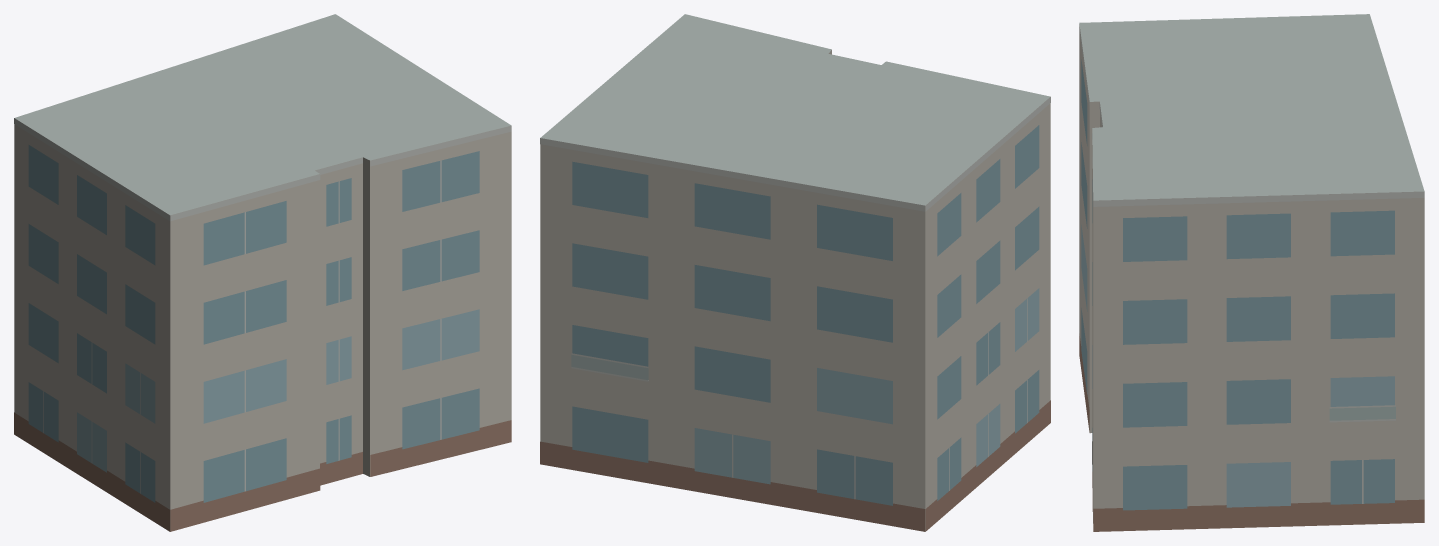
The model's file is survey-upis-32737448.glb.
The picture shows the model from 3 angles, left to right: view 1: azimuth 30°, elevation 25°; view 2: azimuth 150°, elevation 25°; view 3: azimuth 270°, elevation 25°; orthographic projection. The views are drawn at different scales.
Parts seen in each view (by area): view 1: survey-upis-32737448.tmp; view 2: survey-upis-32737448.tmp; view 3: survey-upis-32737448.tmp.
Part boxes in pixels (x1=…): survey-upis-32737448.tmp: x1=14, y1=14, x2=511, y2=531; survey-upis-32737448.tmp: x1=540, y1=14, x2=1050, y2=531; survey-upis-32737448.tmp: x1=1079, y1=14, x2=1424, y2=531.
Bounding box in the file's own units: 15.47 × 12.8 × 12.1.
